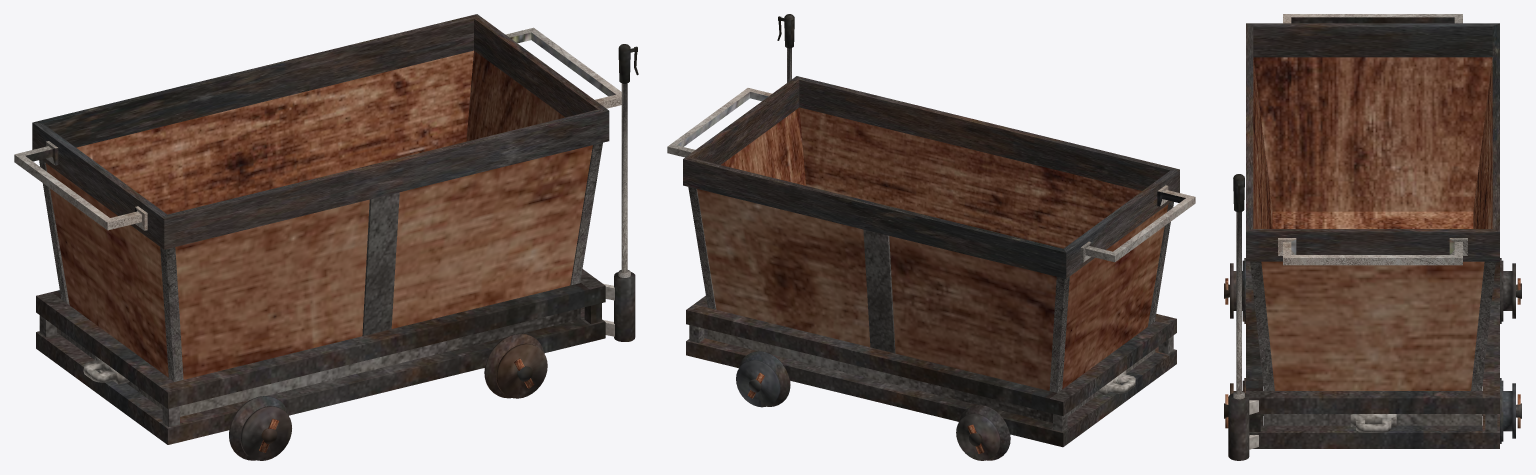
The model's file is CarrinhoDeMineiracao.fbx.
3 views of the same model, side by side, from view 1: azimuth 30°, elevation 25°; view 2: azimuth 150°, elevation 25°; view 3: azimuth 270°, elevation 25° (orthographic). The views are drawn at different scales.
Parts seen in each view (by area): view 1: CarrinhoMinerador; view 2: CarrinhoMinerador; view 3: CarrinhoMinerador.
Part boxes in pixels (<box>): CarrinhoMinerador: <box>14,14,638,460</box>; CarrinhoMinerador: <box>667,14,1195,460</box>; CarrinhoMinerador: <box>1224,14,1521,460</box>.
Bounding box in the file's own units: 474 × 287 × 245.
